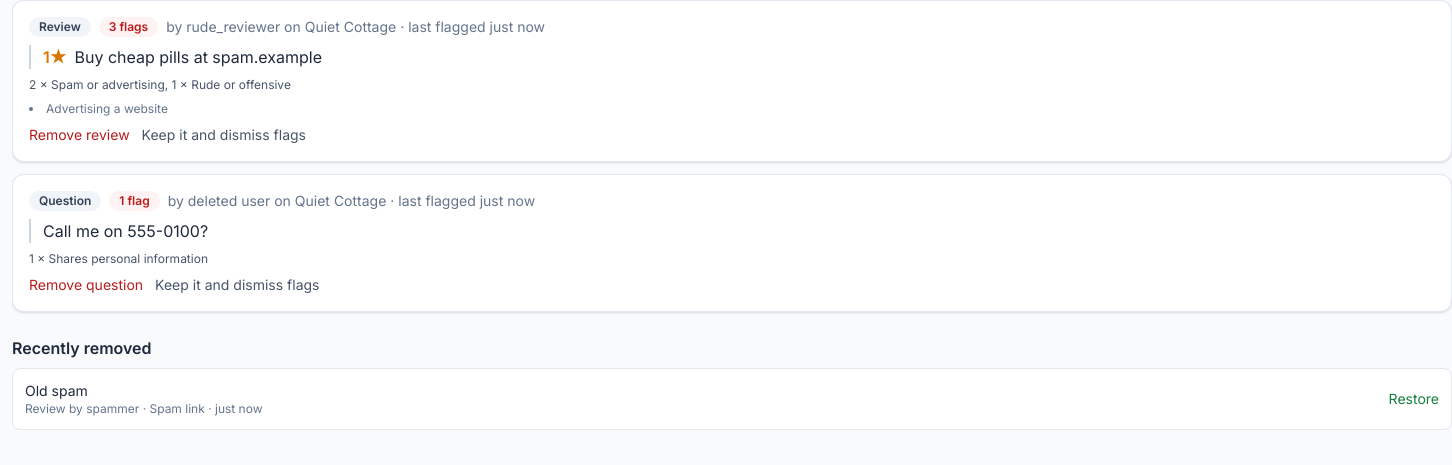
Test: AdminContent › removes content with a reason and refreshes the lists
Click the button "Remove review" at (79, 135), box [29,125,130,145]
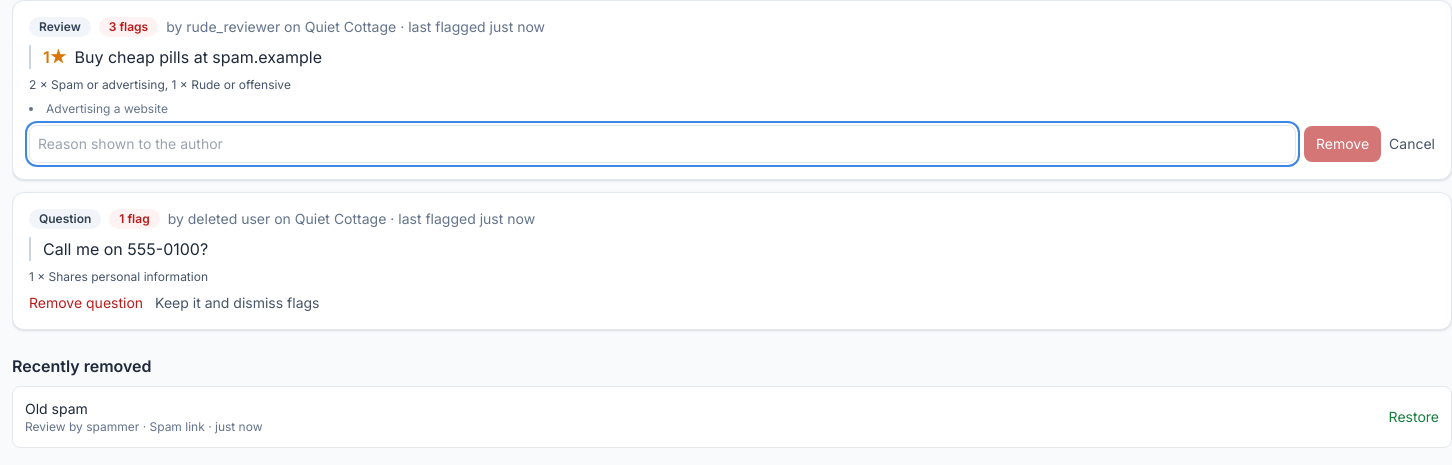
Type "Spam link" into the field labelled "Reason shown to the author" at (662, 144), box [29,125,1296,163]
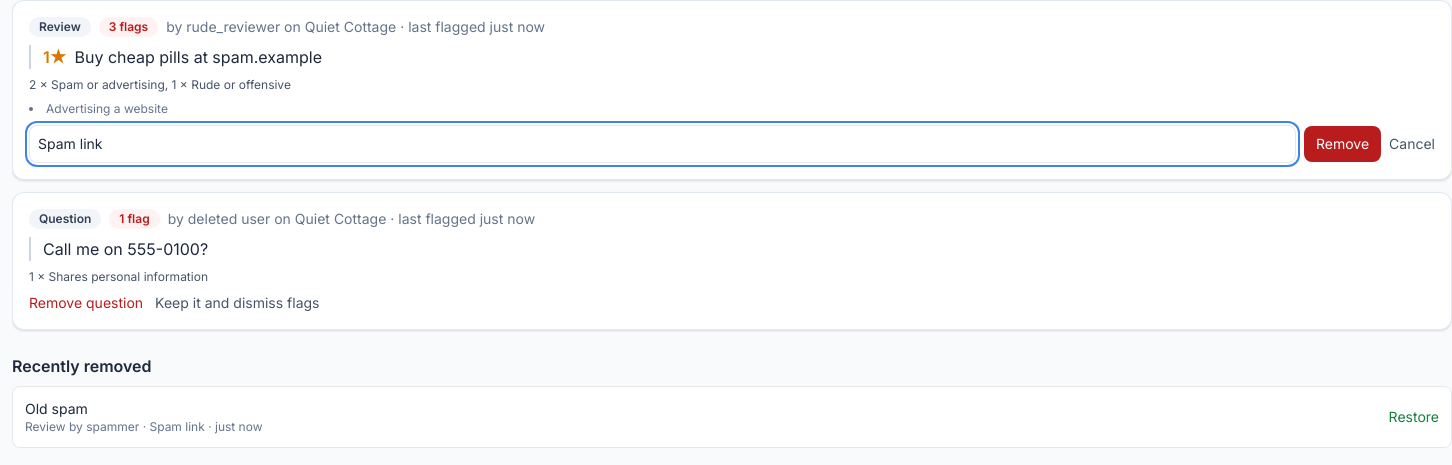
Click the button "Remove" at (1343, 144), box [1304,126,1381,162]
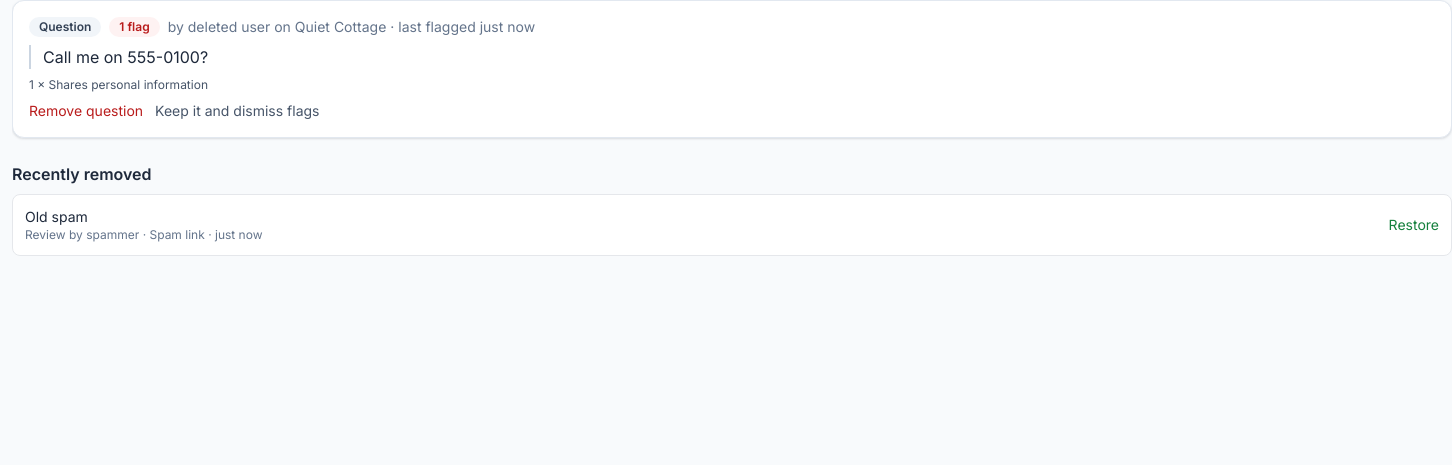
Expected: the text "Call me on 555-0100?" is shown, [29,45,1435,69]
Expected: the text "Buy cheap pills at spam.example" is gone
